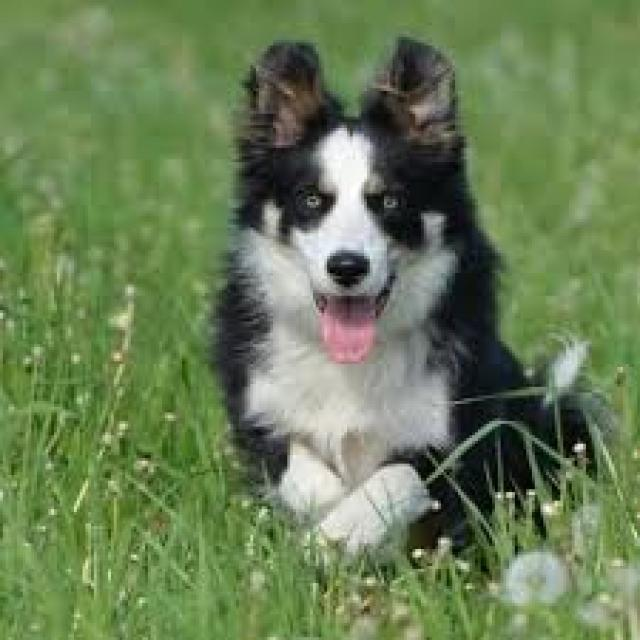ALASKAN_MALAMUTE: (198, 18, 608, 579)
